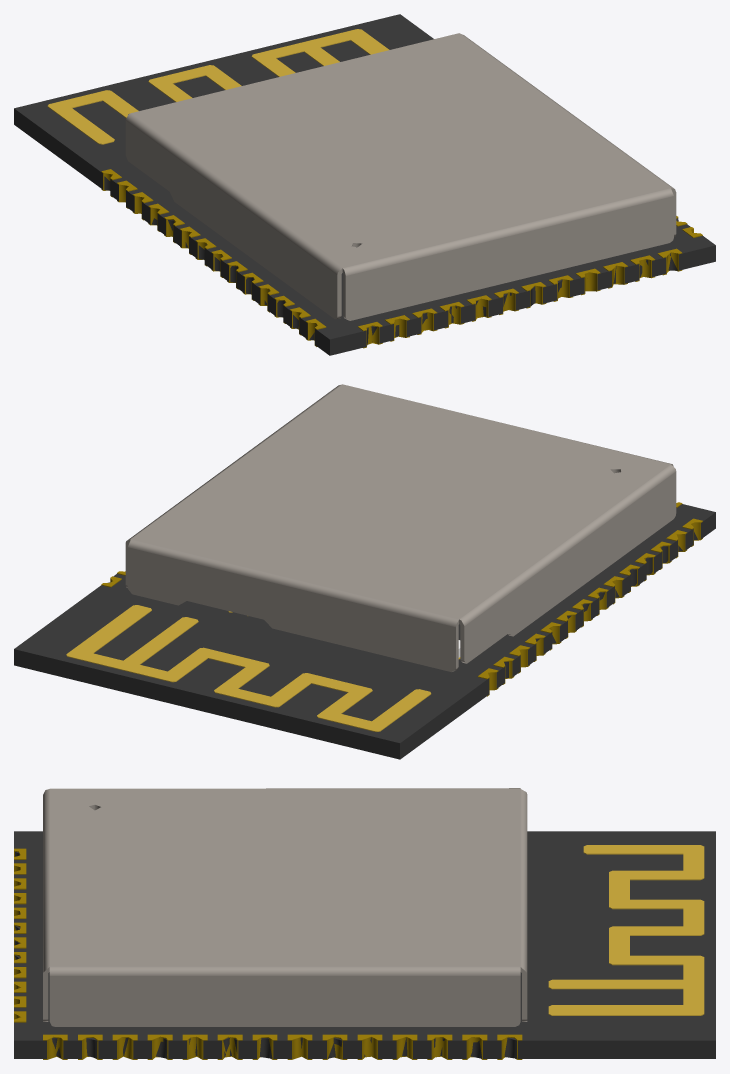
File: esp-esp32-s3-wroom-1.glb
3 views of the same model, one above another, from view 1: azimuth 30°, elevation 25°; view 2: azimuth 150°, elevation 25°; view 3: azimuth 270°, elevation 25° (orthographic). The views are drawn at different scales.
Visible parts, largest first — view 1: 0.4166666666666667_0.3333333333333333_0.3333333333333333_0, 0_0_0_0, 0.4166666666666667_0.25_0_0, 0.6666666666666666_0.4166666666666667_0_0; view 2: 0.4166666666666667_0.3333333333333333_0.3333333333333333_0, 0_0_0_0, 0.6666666666666666_0.4166666666666667_0_0, 0.4166666666666667_0.25_0_0; view 3: 0.4166666666666667_0.3333333333333333_0.3333333333333333_0, 0_0_0_0, 0.6666666666666666_0.4166666666666667_0_0, 0.4166666666666667_0.25_0_0.
Boxes of the visible parts, left/top/right/bottom form: 0.4166666666666667_0.3333333333333333_0.3333333333333333_0: left=125, top=33, right=676, bottom=320; 0_0_0_0: left=14, top=14, right=715, bottom=355; 0.4166666666666667_0.25_0_0: left=101, top=169, right=702, bottom=348; 0.6666666666666666_0.4166666666666667_0_0: left=47, top=29, right=389, bottom=144; 0.4166666666666667_0.3333333333333333_0.3333333333333333_0: left=125, top=384, right=676, bottom=672; 0_0_0_0: left=14, top=504, right=715, bottom=759; 0.6666666666666666_0.4166666666666667_0_0: left=66, top=605, right=460, bottom=731; 0.4166666666666667_0.25_0_0: left=101, top=502, right=702, bottom=696; 0.4166666666666667_0.3333333333333333_0.3333333333333333_0: left=43, top=788, right=527, bottom=1026; 0_0_0_0: left=14, top=831, right=715, bottom=1058; 0.6666666666666666_0.4166666666666667_0_0: left=548, top=845, right=704, bottom=1015; 0.4166666666666667_0.25_0_0: left=14, top=848, right=522, bottom=1059.
Bounding box in the file's own units: 1.8 × 0.3099 × 2.55.
